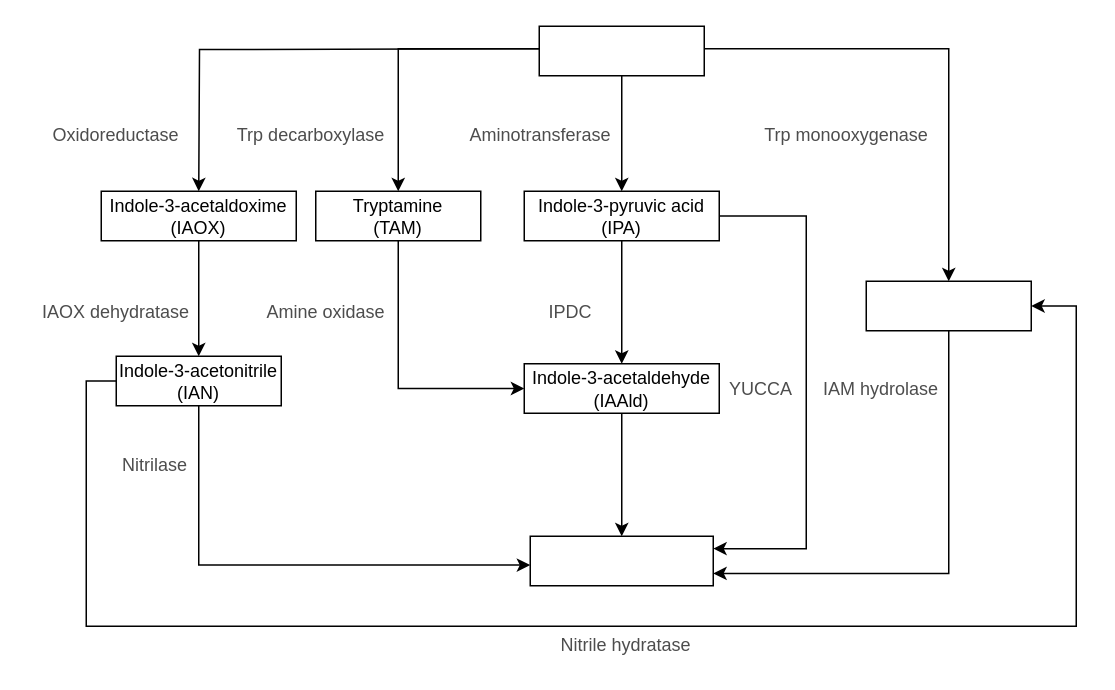
The diagram is 1115 pixels wide and 690 high, and some of its shapes have lost their labels. Here are the shapes that lost their labels. From the top down, the box of each, then its label:
(538, 25, 704, 76): Tryptophan (Trp)
(865, 280, 1031, 331): Indole-3-acetamide (IAM)
(529, 535, 713, 586): Indole-3-acetic acid (IAA)
